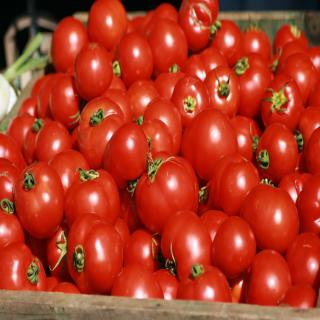Tomato: (0, 0, 319, 300), (135, 156, 204, 239), (76, 98, 126, 168)
